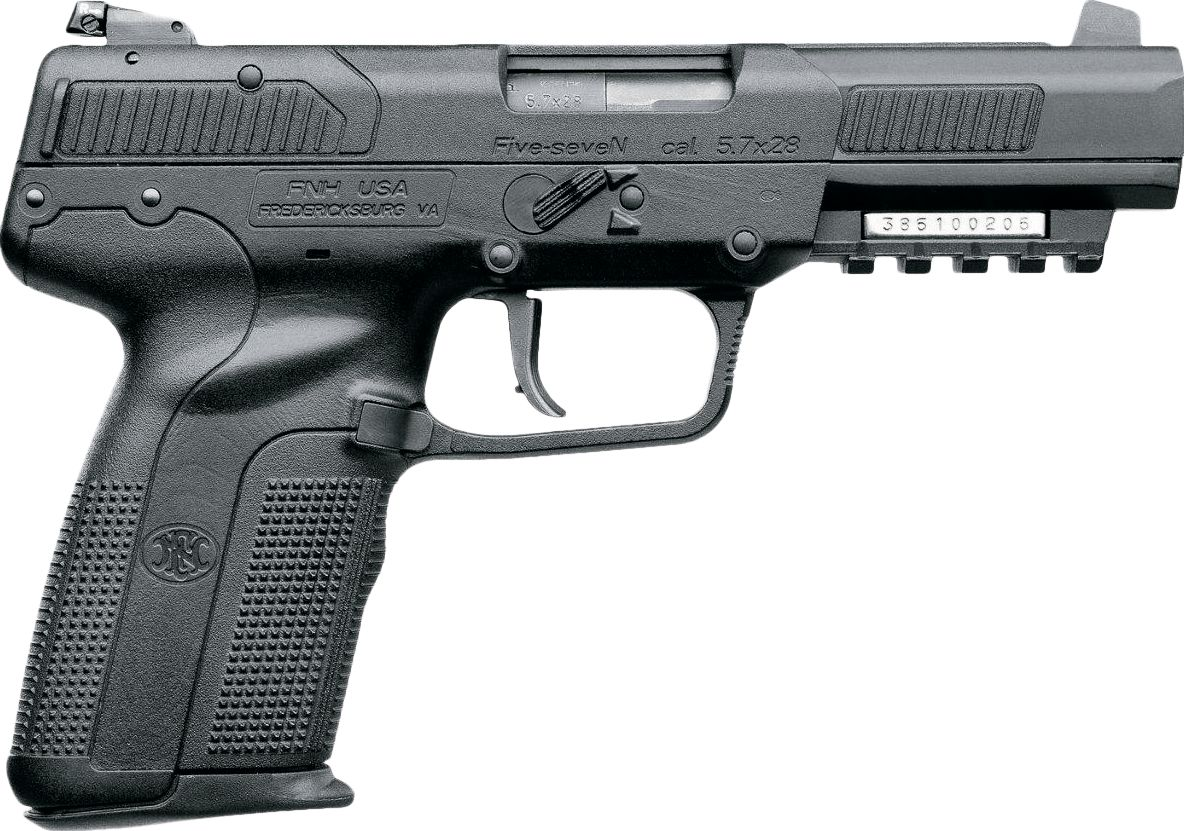gun: (6, 2, 1184, 821)
